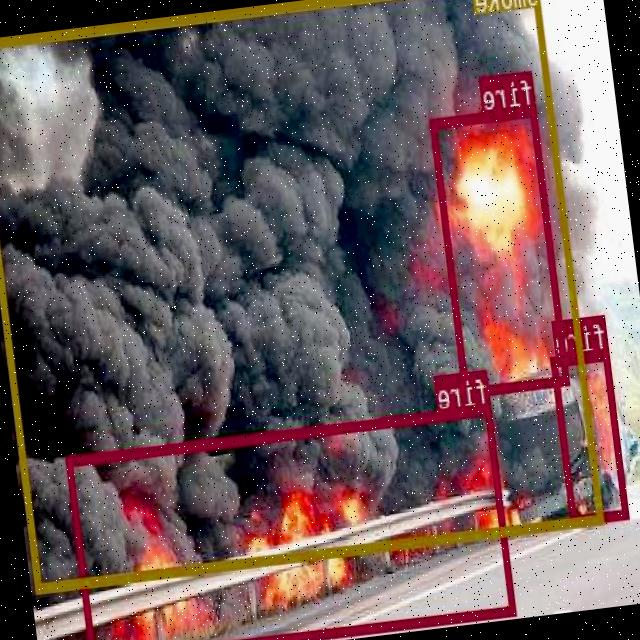fire: (65, 402, 517, 640), (430, 105, 570, 396), (552, 348, 630, 523)
smoke: (0, 0, 605, 589)
